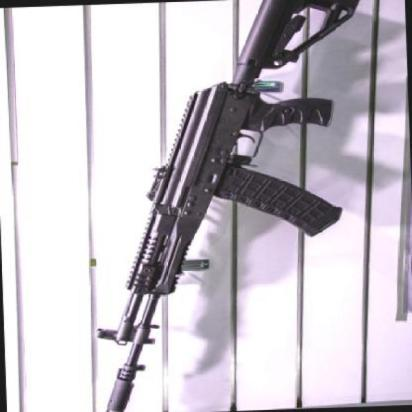Gun: (60, 0, 389, 412)
